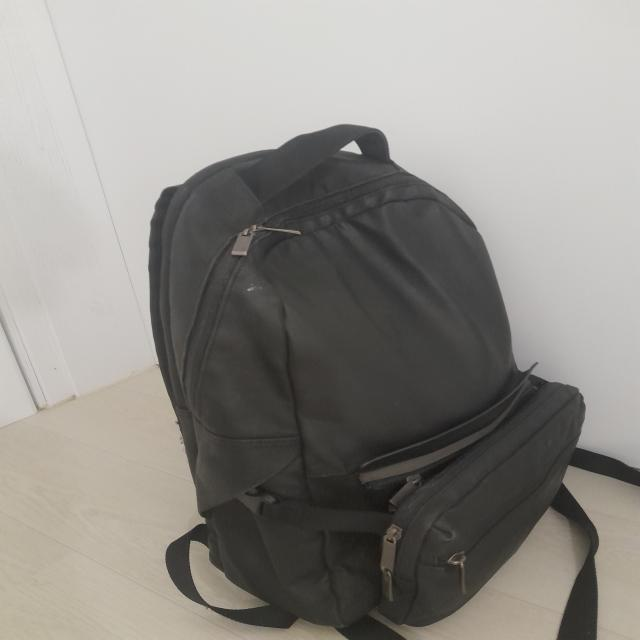backpack: (149, 123, 638, 640)
